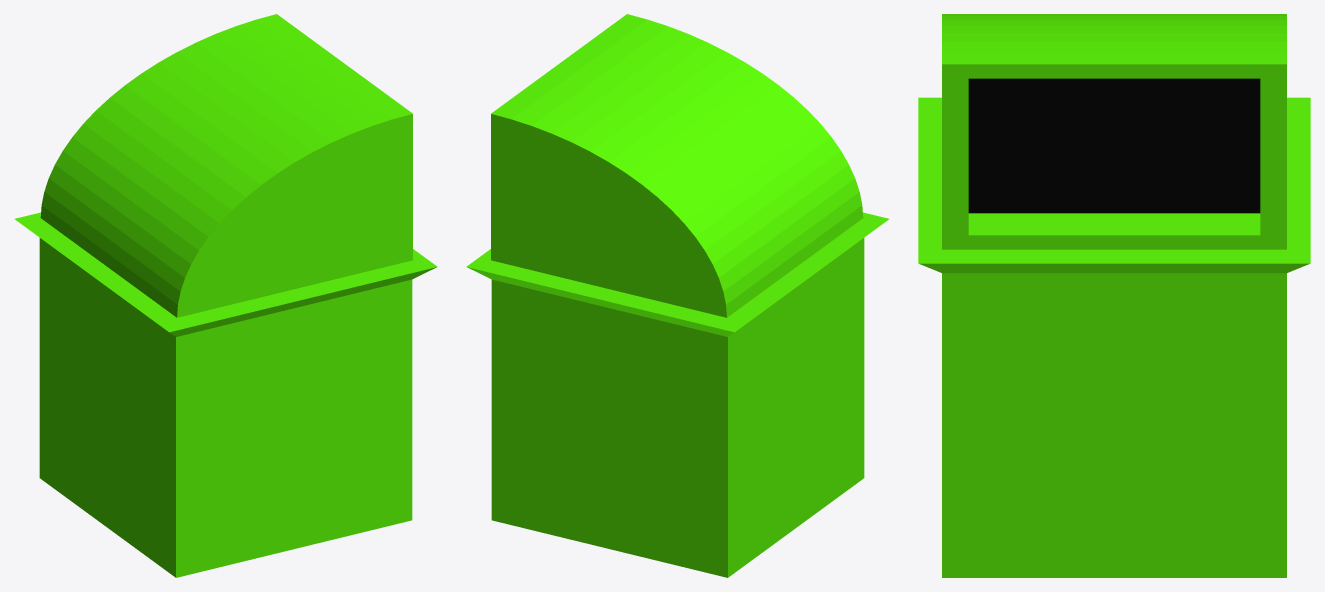
Rendered from basura.fbx.
3 renders of one model, left to right at view 1: azimuth 30°, elevation 25°; view 2: azimuth 150°, elevation 25°; view 3: azimuth 270°, elevation 25°, orthographic. The views are drawn at different scales.
Visible parts, largest first — view 1: Cube, Cube.001; view 2: Cube, Cube.001; view 3: Cube, Cube.001.
Part boxes in pixels (x1,y1,x2,y2): Cube: (15,212,437,577); Cube.001: (40,14,412,317); Cube: (466,212,888,577); Cube.001: (491,14,863,317); Cube: (918,97,1310,577); Cube.001: (942,14,1286,249).
Bounding box in the file's own units: 269 × 389 × 269.
